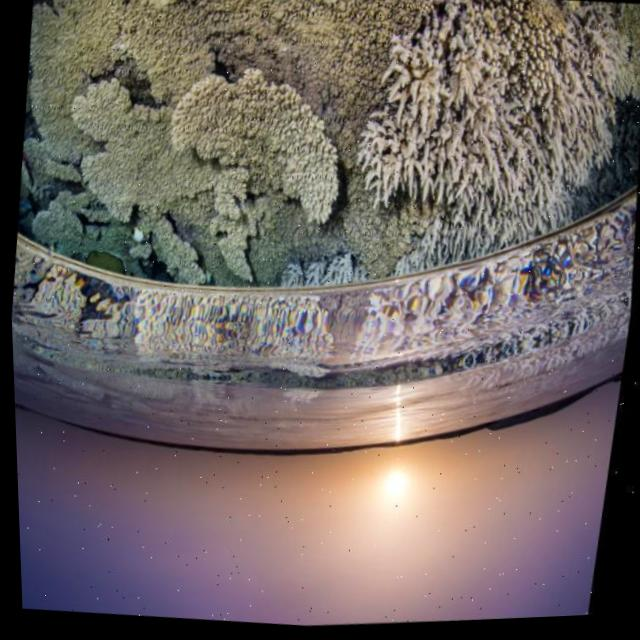Healthy Coral: (3, 0, 628, 338), (336, 0, 640, 232), (151, 46, 365, 253)
